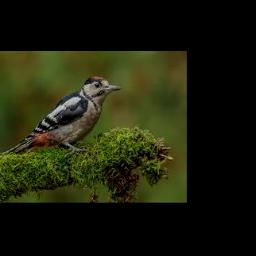Woodpecker: (2, 76, 121, 155)
